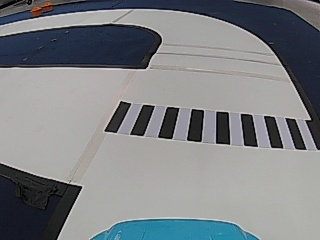CrossWalk: (104, 101, 316, 153)
